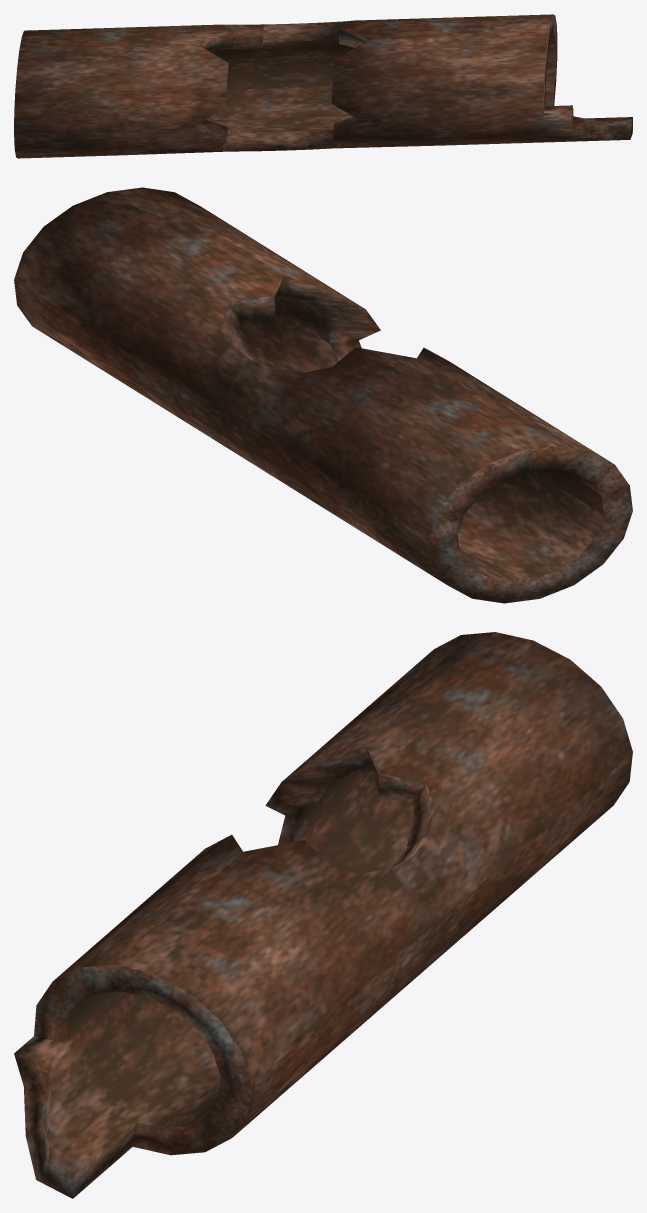
The model's file is tuberia_6.obj.
3 views of the same model, one above another, from view 1: azimuth 30°, elevation 25°; view 2: azimuth 150°, elevation 25°; view 3: azimuth 270°, elevation 25° (orthographic). The views are drawn at different scales.
Parts seen in each view (by area): view 1: tuberia_6; view 2: tuberia_6; view 3: tuberia_6.
Boxes of the visible parts, x1=… form: tuberia_6: x1=14, y1=14, x2=632, y2=158; tuberia_6: x1=14, y1=187, x2=632, y2=603; tuberia_6: x1=14, y1=632, x2=632, y2=1198.
Size of the model in its own units: 98.9 by 19.94 by 62.34.
1 material, 1 textured.
